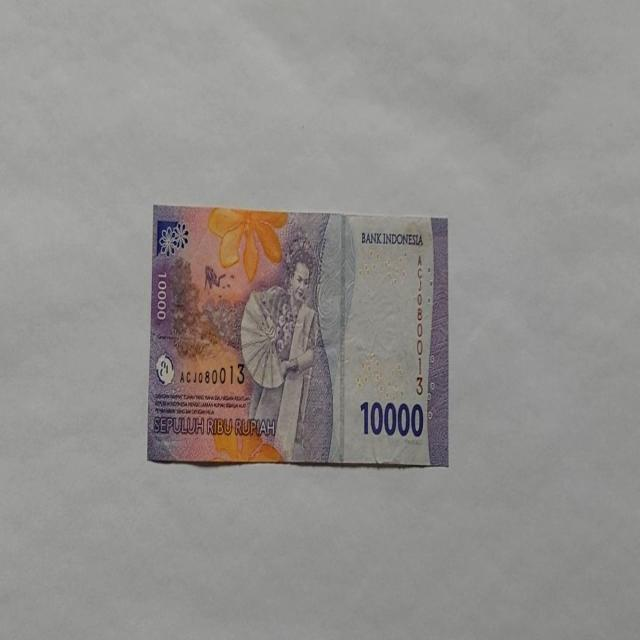Kertas: (146, 204, 450, 468)
